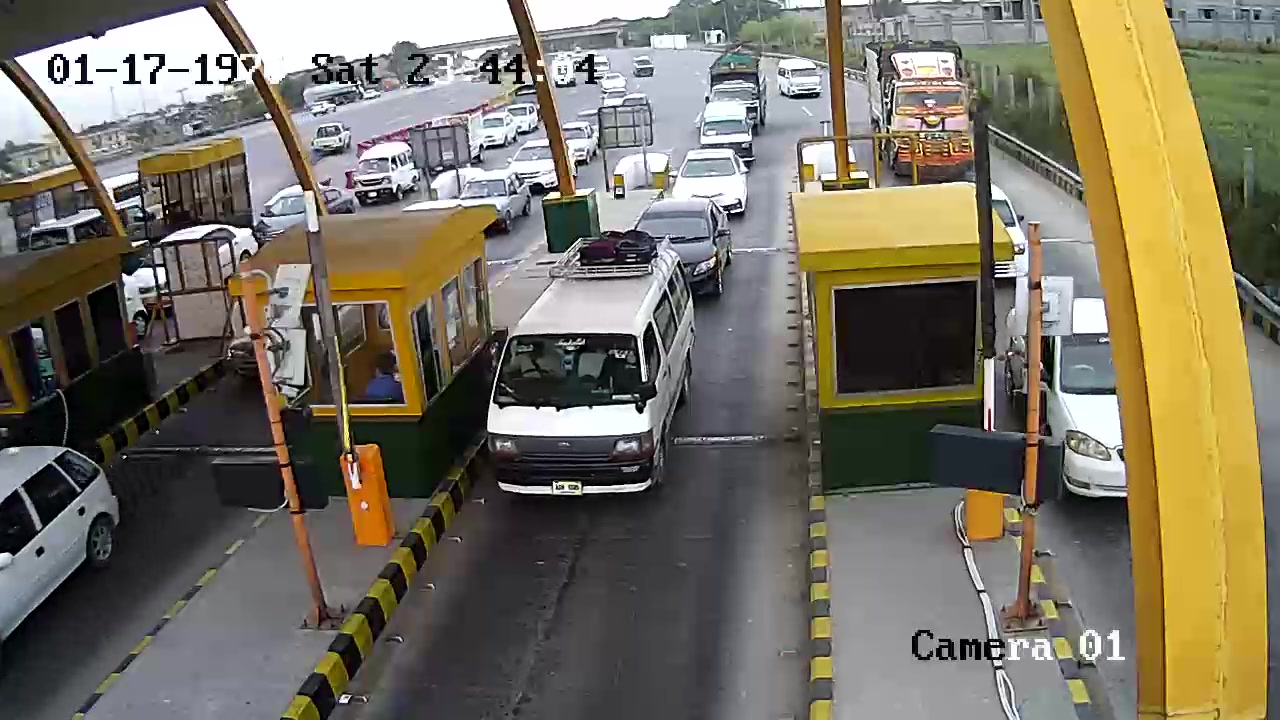F2: (490, 231, 698, 515)
